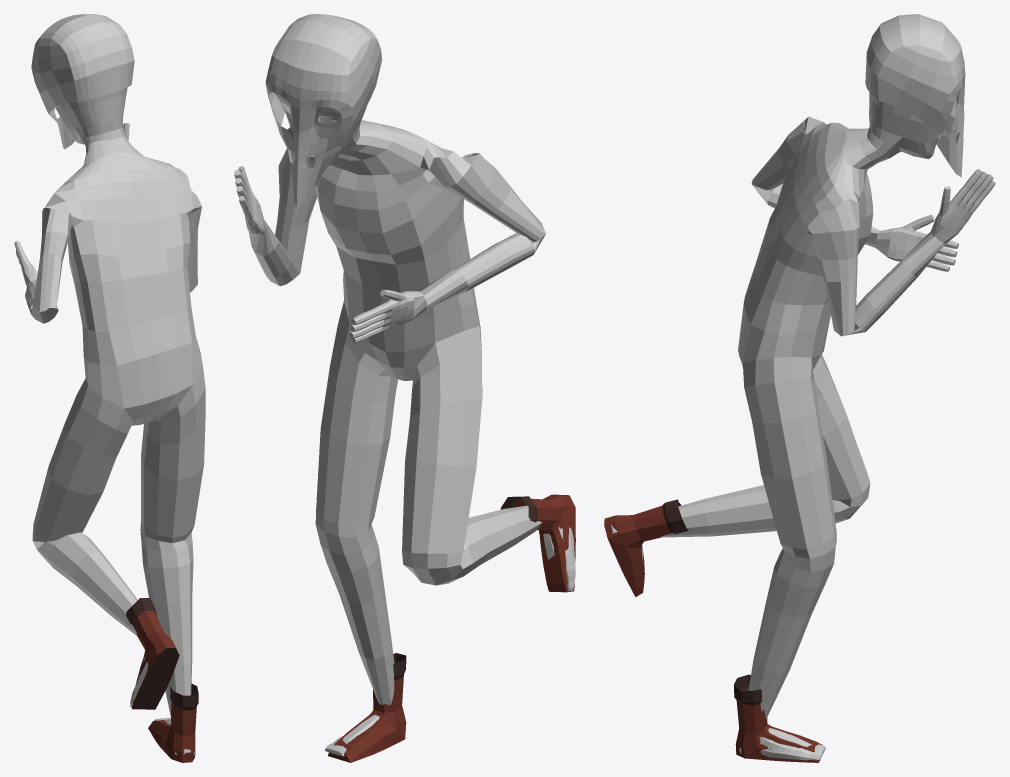
The model's file is correr_000136.obj.
3 renders of one model, left to right at view 1: azimuth 30°, elevation 25°; view 2: azimuth 150°, elevation 25°; view 3: azimuth 270°, elevation 25°, orthographic. The views are drawn at different scales.
Visible parts, largest first — view 1: Plane.002_Plane.001, Plane.004, Plane.003; view 2: Plane.002_Plane.001, Plane.004, Plane.003; view 3: Plane.002_Plane.001, Plane.004, Plane.003.
Boxes of the visible parts, x1,y1,x2,y2 form: Plane.002_Plane.001: (14, 14, 205, 756); Plane.004: (126, 598, 179, 709); Plane.003: (148, 684, 198, 762); Plane.002_Plane.001: (234, 14, 575, 756); Plane.004: (500, 494, 575, 592); Plane.003: (328, 653, 406, 762); Plane.002_Plane.001: (611, 14, 995, 760); Plane.004: (604, 499, 688, 597); Plane.003: (734, 674, 823, 762).
Size of the model in its own units: 2.04 by 6.67 by 3.28.
